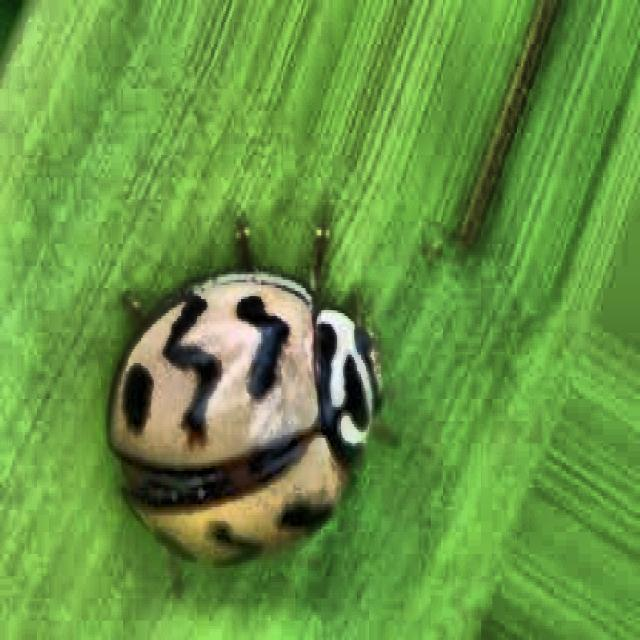Asian-Lady-beetle: (93, 246, 408, 581)
